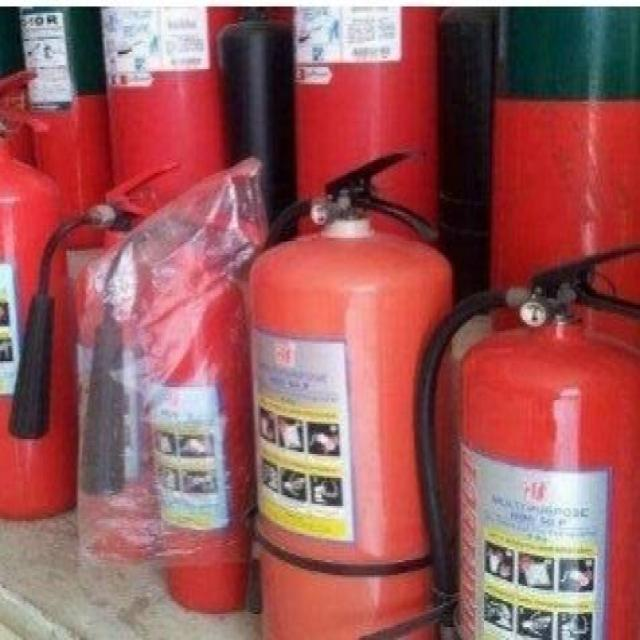fire_extinguisher: (243, 138, 459, 638), (80, 149, 278, 614), (410, 236, 639, 638), (286, 0, 439, 564), (5, 151, 189, 571), (94, 0, 237, 432), (13, 1, 131, 349), (0, 64, 82, 524)
